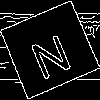N: (24, 25, 74, 81)
